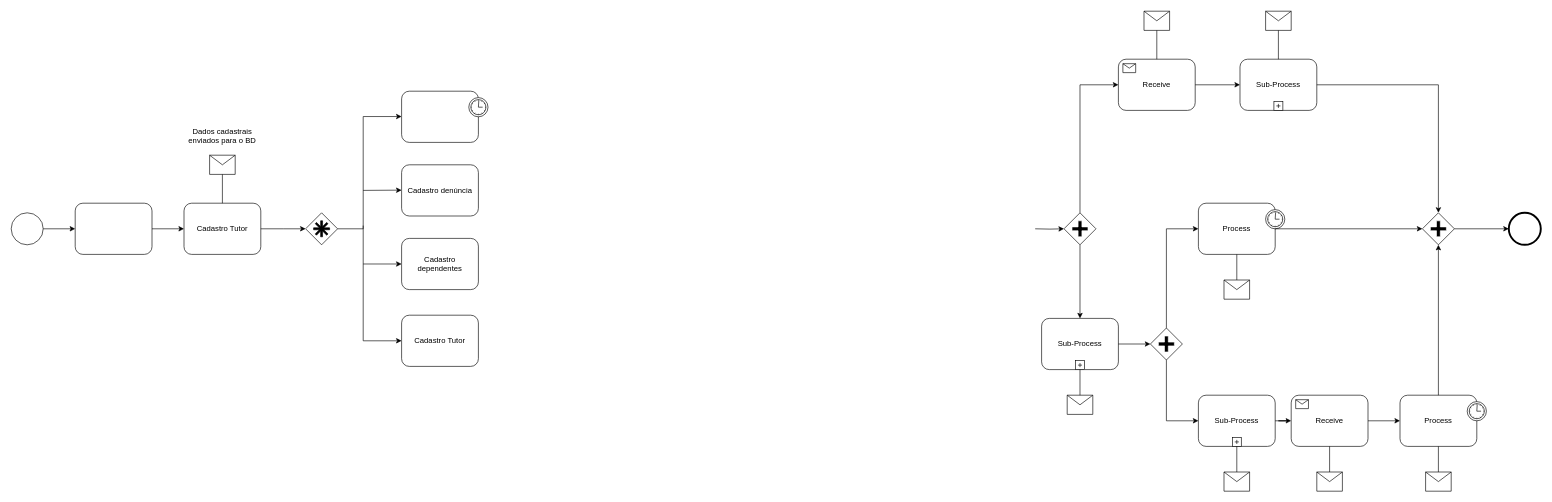
The diagram is 1552 pixels wide and 502 high, and some of its shapes have lost their labels. The shapes that lost their labels are listed below. From the top down, each one's box as (x1, y1, x2, y2) in pixels, then its label:
(401, 91, 478, 142): Agendamento Atendimento
(75, 203, 152, 254): Usuário
